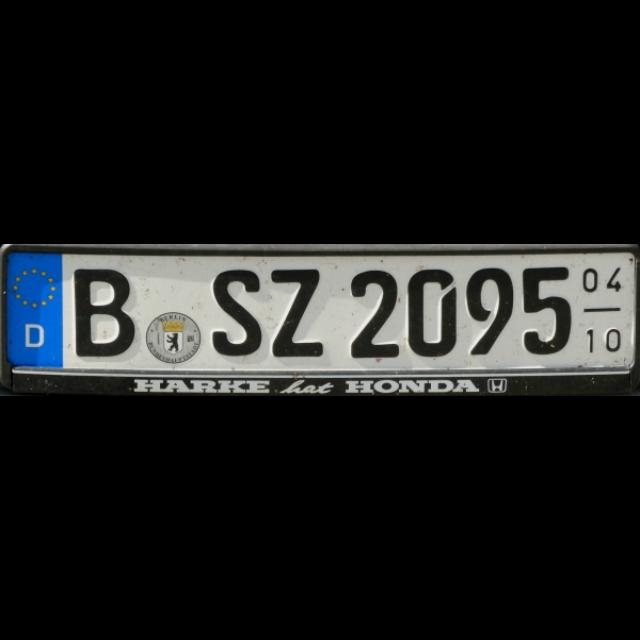d_license_plate: (5, 252, 632, 370)
